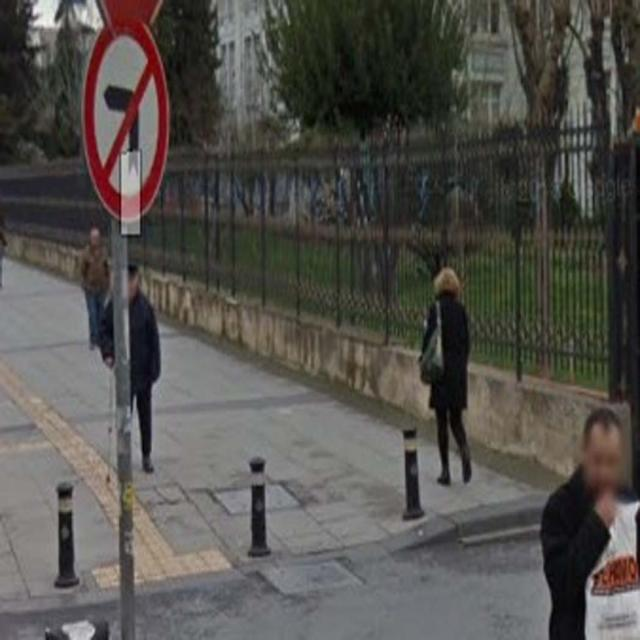soladonulmez: (81, 21, 170, 223)
